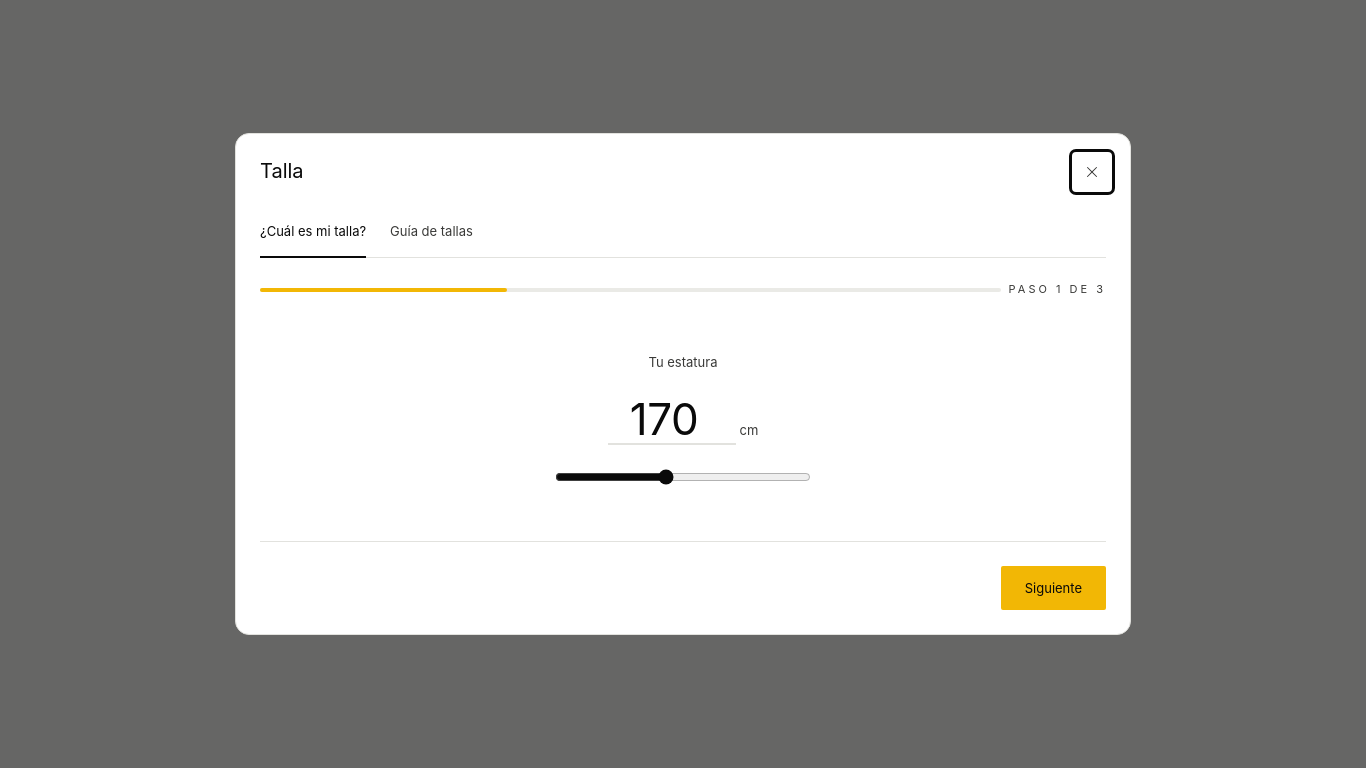
Test: SizeGuideModal › switching the result chip to the unavailable alternative surfaces a warning
The image size is (1366, 768).
Click the button named "Siguiente".
click(1053, 588)  # box x1=1001 y1=566 x2=1106 y2=610
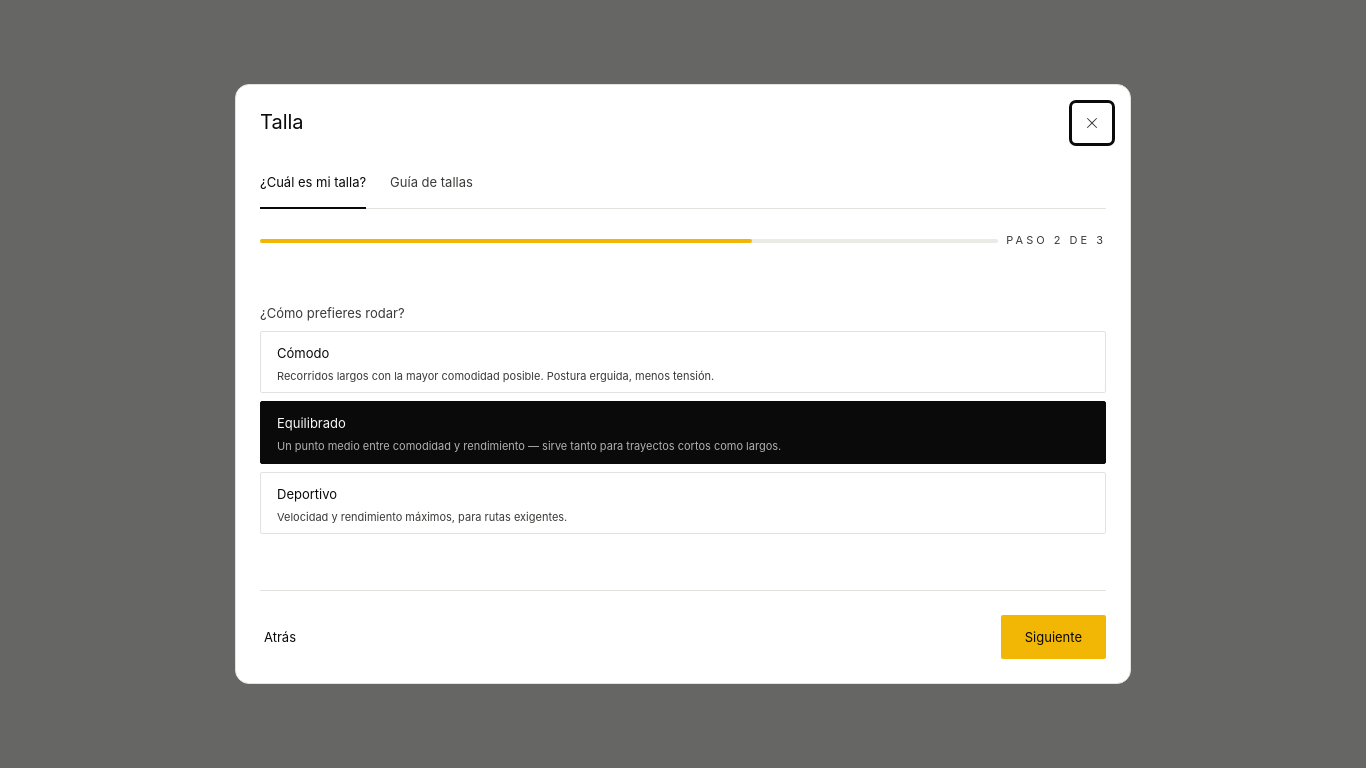
Click the 2nd button named "Siguiente".
click(1053, 637)  # box x1=1001 y1=615 x2=1106 y2=659
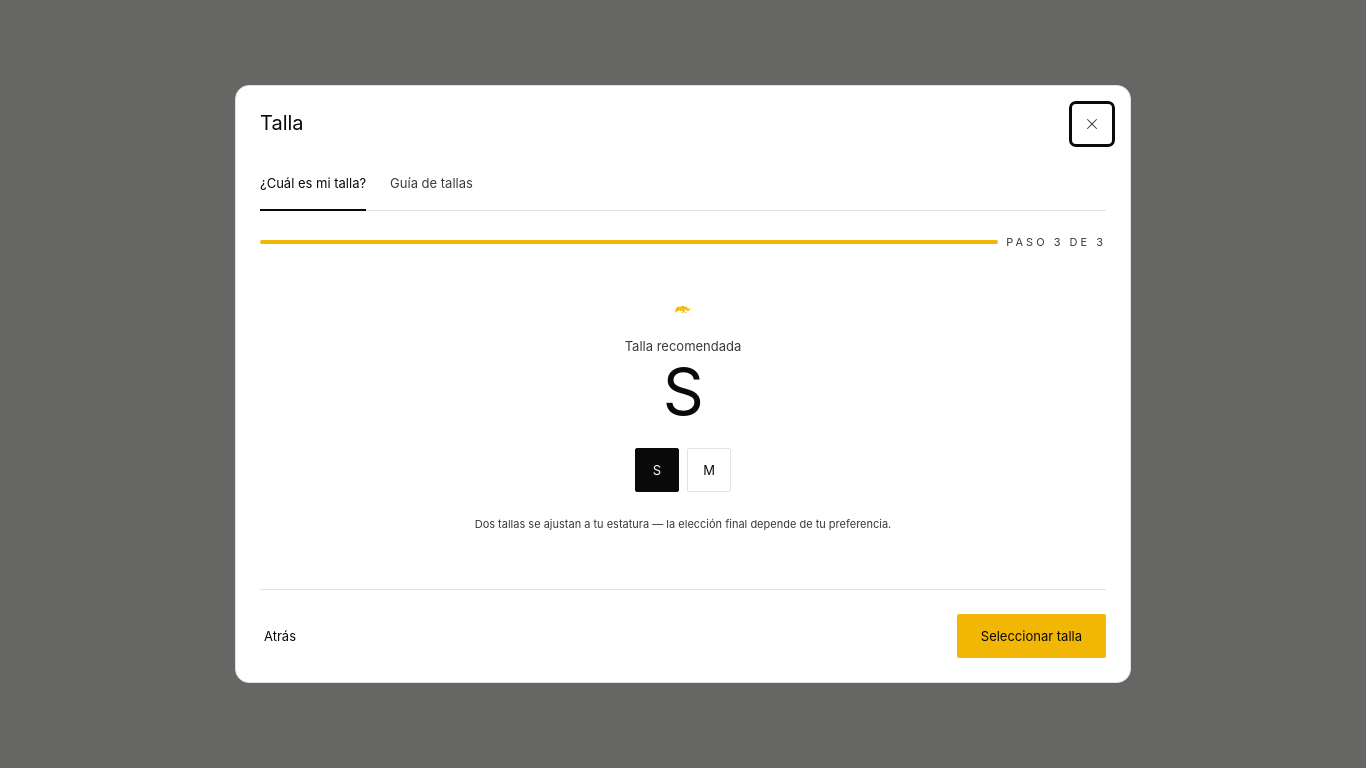
Click the radio button labelled "M".
click(709, 470)  # box x1=687 y1=448 x2=731 y2=492
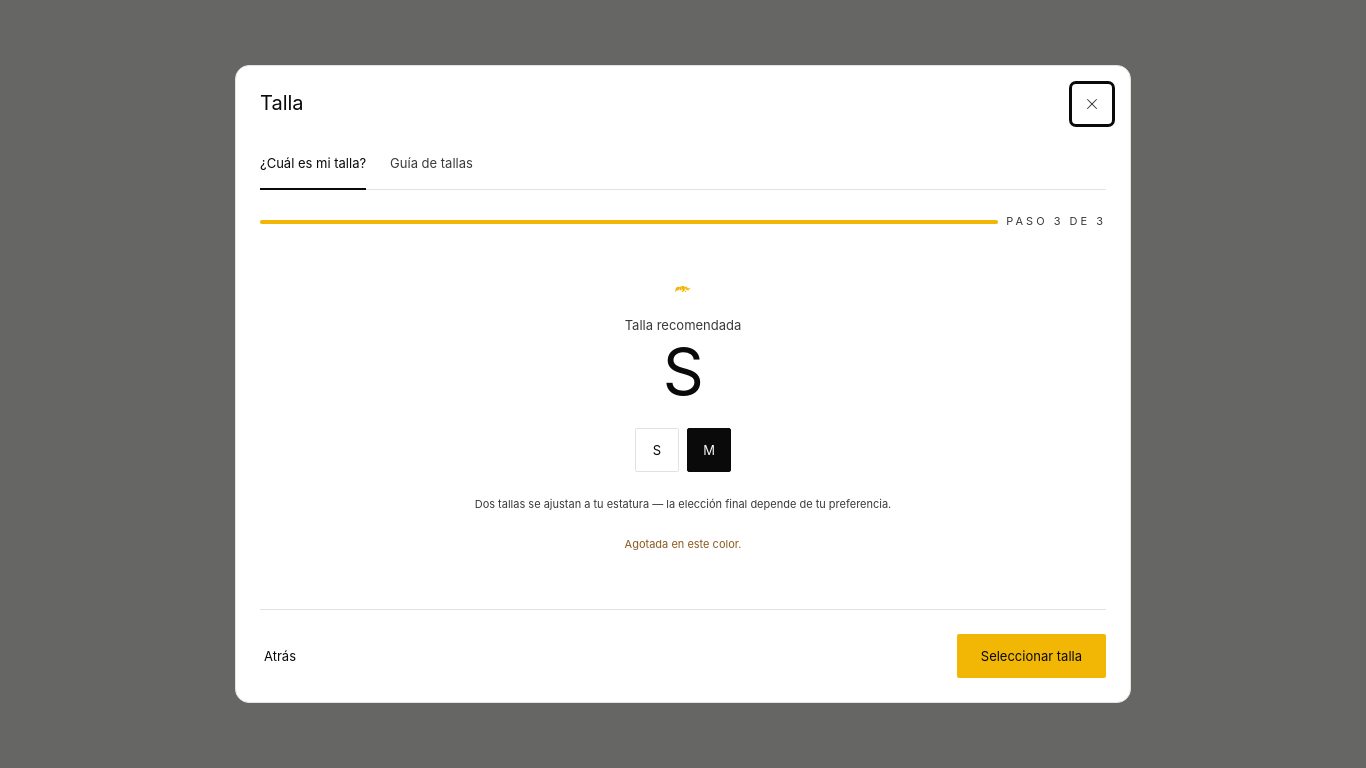
Result: the text "Agotada en este color." is shown at x1=625 y1=536 x2=741 y2=553
